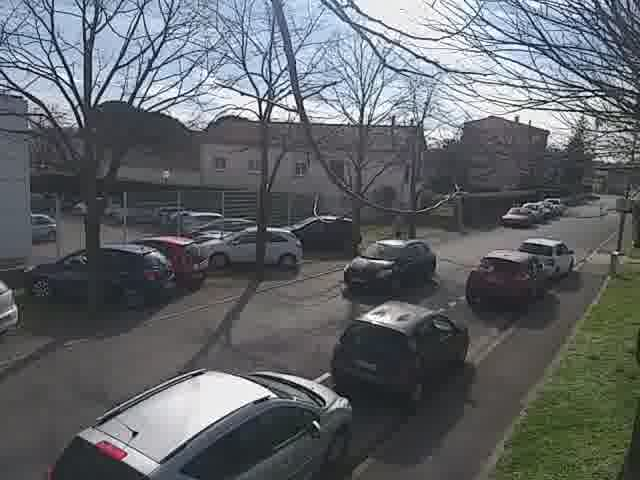persona: (386, 206, 408, 239)
